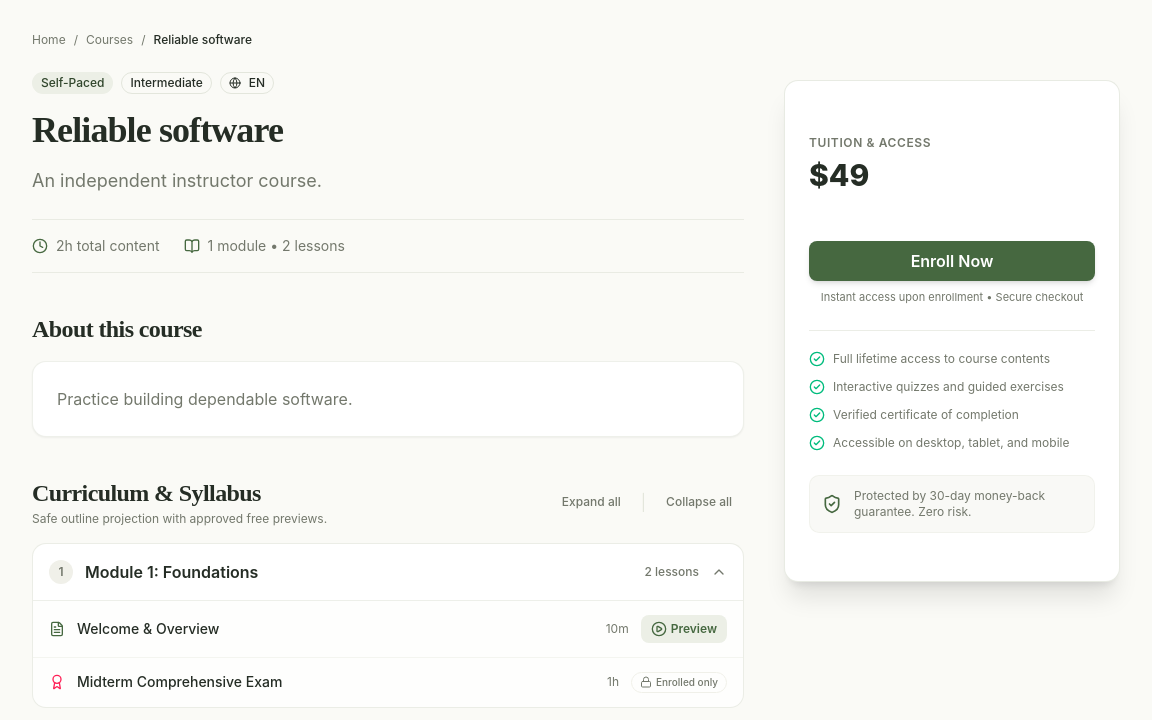
Test: CourseDetail component › opens preview lesson modal when Preview button is clicked
Click the button "Preview": (684, 629) [641,615,727,643]
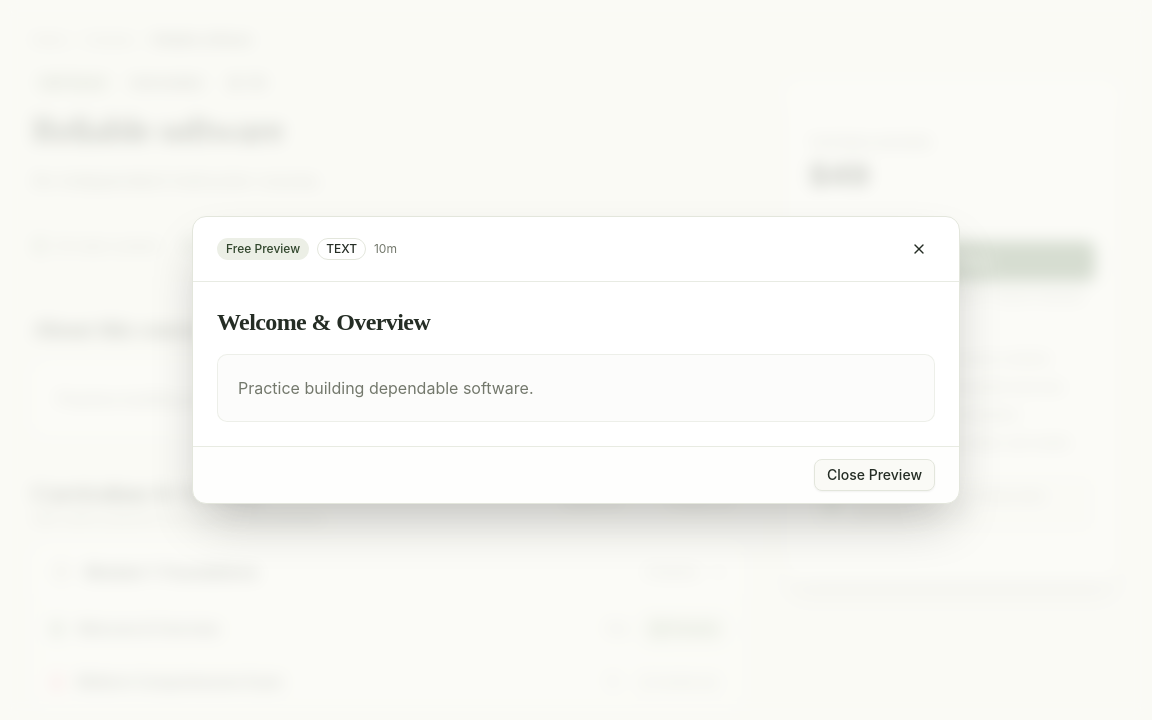
Expected: the text "Practice building dependable software." below "About this course" is shown, [57,389,352,409]
Now the dialog is shown
